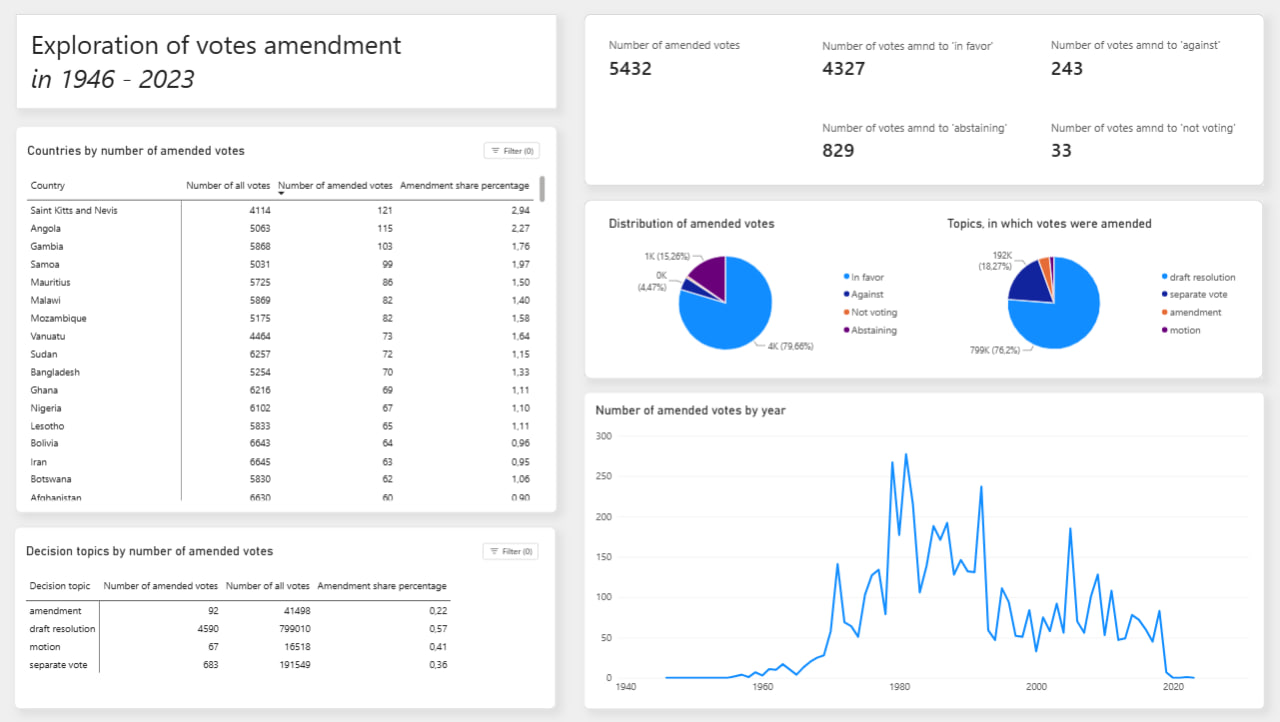

What the dashboard file says about the page in this screenshot:
{"tool":"powerbi","page":{"name":"votes_amendment","canvas":[1920,1080],"ordinal":0},"visuals":[{"type":"shape","box":[880,306.7,983.9,259.3],"z":0},{"type":"pivotTable","title":"Countries by number of amended votes","fields":{"Rows":["Often_amend.member_state"],"Values":["Sum(Often_amend.all_votes)","Sum(Often_amend.num_of_amnd_votes)","Sum(Often_amend.amnd_share_pct)"]},"box":[55.6,199.7,784.2,559.9],"z":1000},{"type":"shape","box":[880,37,985.9,249.1],"z":2000},{"type":"pieChart","title":"Distribution of amended votes","fields":{"Y":["Sum(Often_amend.amnd_in_favor)","Sum(Often_amend.amnd_against)","Sum(Often_amend.amnd_not_voting)","Sum(Often_amend.amnd_abstaining)"]},"box":[899.5,314.9,459,244.9],"z":3000},{"type":"pieChart","title":"Topics, in which votes were amended","fields":{"Category":["Topics_amend.decision_topic"],"Y":["Sum(Topics_amend.all_votes)"]},"box":[1389.4,314.9,459,244.9],"z":4000},{"type":"pivotTable","title":"Decision topics by number of amended votes","fields":{"Rows":["Topics_amend.decision_topic"],"Values":["Sum(Topics_amend.number_of_amended_votes)","Sum(Topics_amend.all_votes)","Sum(Topics_amend.amnd_share_pct)"]},"box":[55,780.1,784.2,263.5],"z":5000},{"type":"lineChart","title":"Number of amended votes by year","fields":{"Category":["When_amend.meeting_year"],"Y":["Sum(When_amend.number_of_amended_votes)"]},"box":[880,584.6,985.9,459],"z":6000},{"type":"cardVisual","fields":{"Data":["Sum(Often_amend.num_of_amnd_votes)"]},"box":[899.5,39.1,308,123.5],"z":7000},{"type":"shape","box":[55.6,37,784.2,137.9],"z":7500},{"type":"cardVisual","fields":{"Data":["Sum(Often_amend.amnd_in_favor)"]},"box":[1208.2,39.1,308,123.5],"z":8000},{"type":"cardVisual","fields":{"Data":["Sum(Often_amend.amnd_against)"]},"box":[1539.6,39.1,308,123.5],"z":9000},{"type":"cardVisual","fields":{"Data":["Sum(Often_amend.amnd_not_voting)"]},"box":[1539.6,158.5,308,123.5],"z":10000},{"type":"cardVisual","fields":{"Data":["Sum(Often_amend.amnd_abstaining)"]},"box":[1208.2,158.5,308.7,123.5],"z":11000},{"type":"textbox","box":[78.2,53.5,683.4,109.1],"z":12000}]}

Visuals, with their boxes in screenshot pixels (x1, y1, x2, y2), scaled from the page's 1920x1080 canvas onto the 1280x722 screenshot:
shape: box=[587, 205, 1243, 378]
"Countries by number of amended votes" pivotTable: box=[37, 134, 560, 508]
shape: box=[587, 25, 1244, 191]
"Distribution of amended votes" pieChart: box=[600, 211, 906, 374]
"Topics, in which votes were amended" pieChart: box=[926, 211, 1232, 374]
"Decision topics by number of amended votes" pivotTable: box=[37, 522, 559, 698]
"Number of amended votes by year" lineChart: box=[587, 391, 1244, 698]
cardVisual - Sum(Often_amend.num_of_amnd_votes): box=[600, 26, 805, 109]
shape: box=[37, 25, 560, 117]
cardVisual - Sum(Often_amend.amnd_in_favor): box=[805, 26, 1011, 109]
cardVisual - Sum(Often_amend.amnd_against): box=[1026, 26, 1232, 109]
cardVisual - Sum(Often_amend.amnd_not_voting): box=[1026, 106, 1232, 189]
cardVisual - Sum(Often_amend.amnd_abstaining): box=[805, 106, 1011, 189]
textbox: box=[52, 36, 508, 109]
